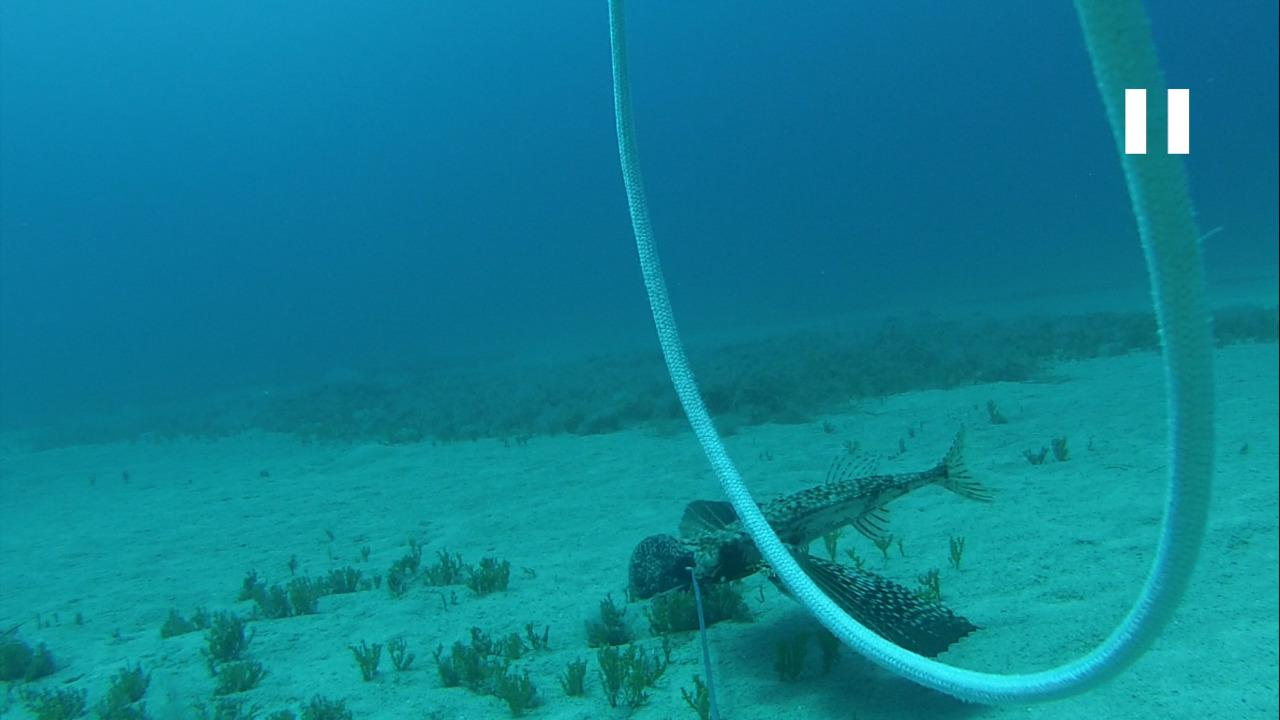dactylopterus: (670, 423, 979, 655)
